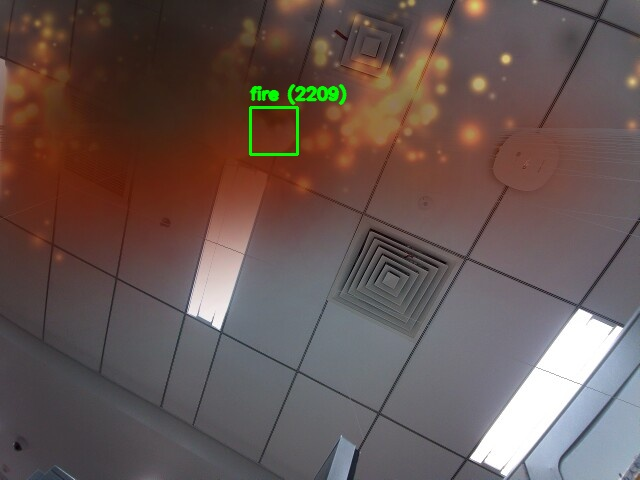fire: (250, 107, 297, 154)
